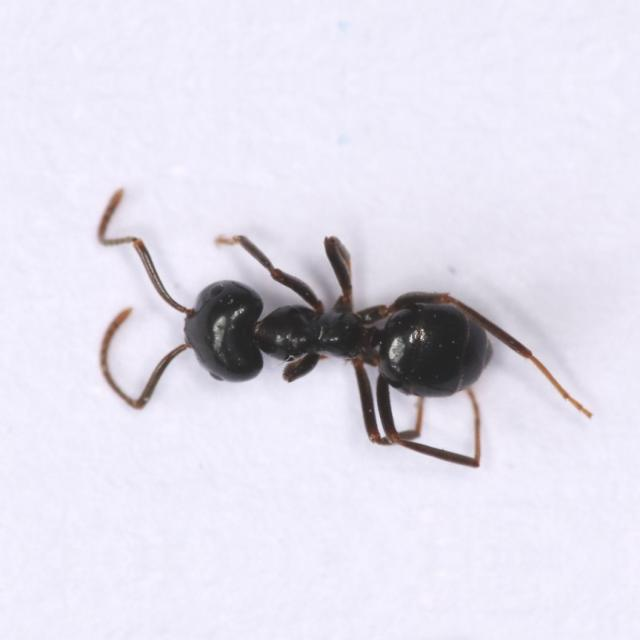Lasius: (72, 213, 514, 444)
